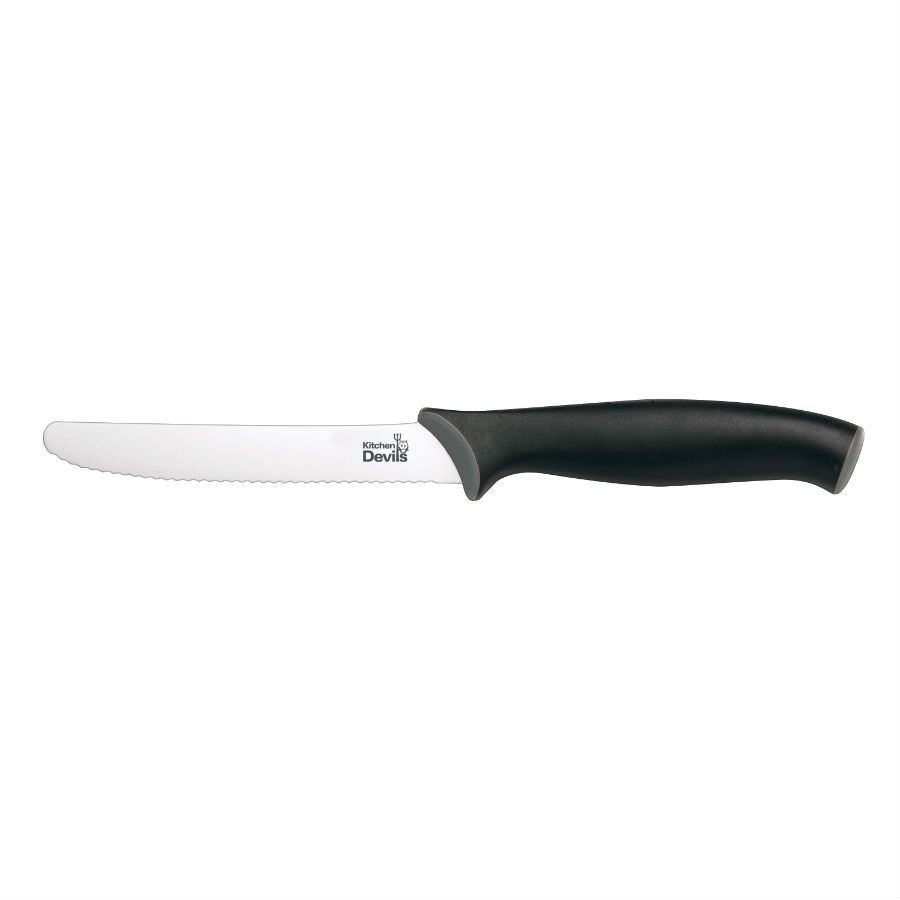knife: (39, 400, 869, 504)
